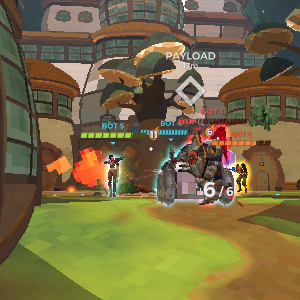model: (184, 124, 233, 211), (235, 159, 250, 191)
